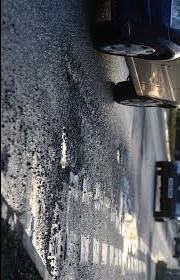pothole: (57, 90, 86, 184)
